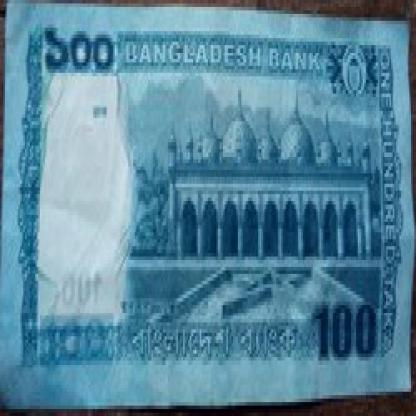one hundred taka: (33, 10, 120, 87), (308, 294, 384, 361)
